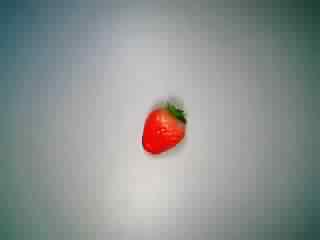strawberry: (129, 97, 192, 155)
